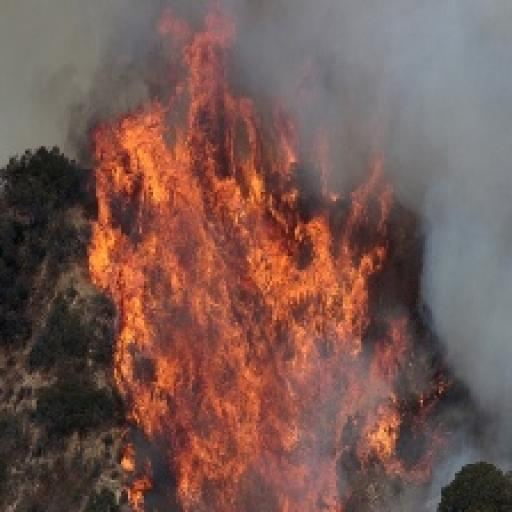fire and smoke: (90, 5, 445, 509)
